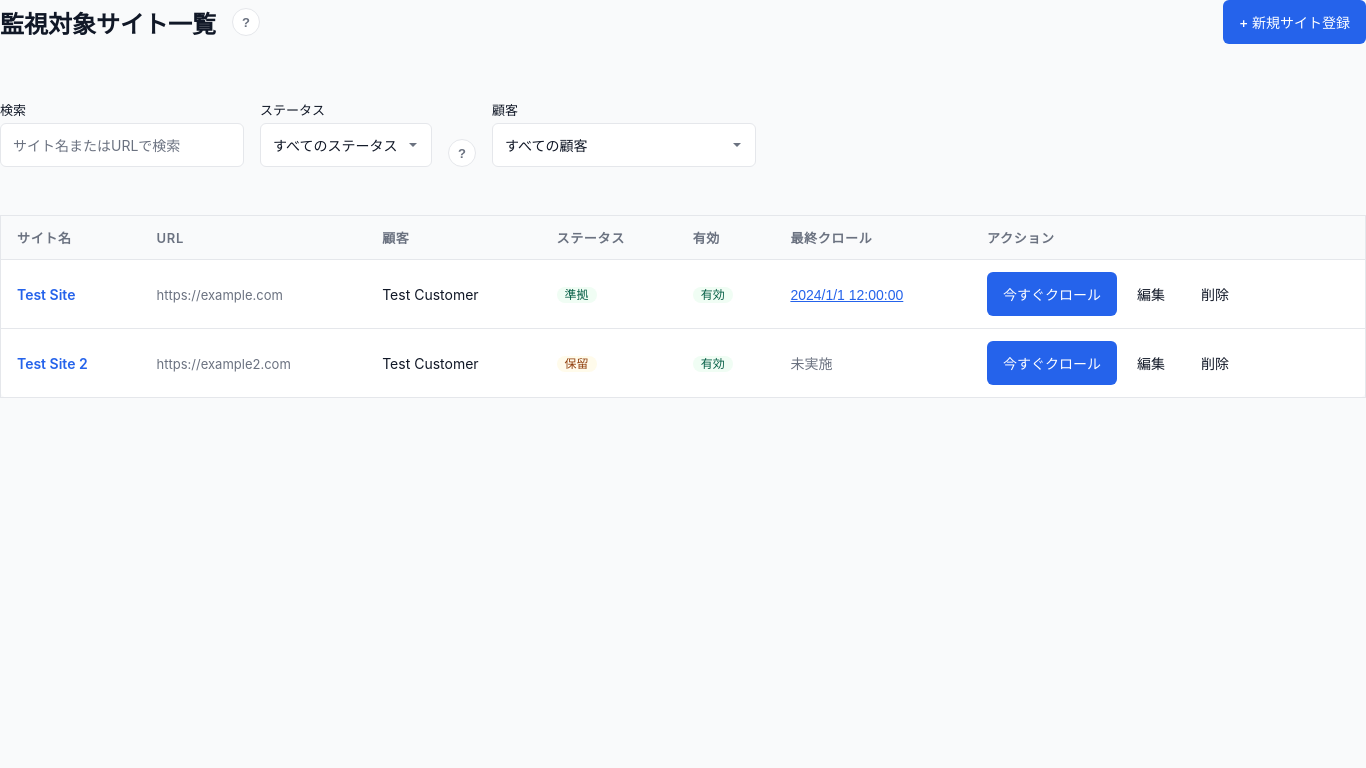
Sites - Crawl Result Link › should show loading state while fetching crawl result
This screenshot has width=1366, height=768.
Click the button "2024/1/1 12:00:00".
click(847, 294)  # box [790,286,903,302]
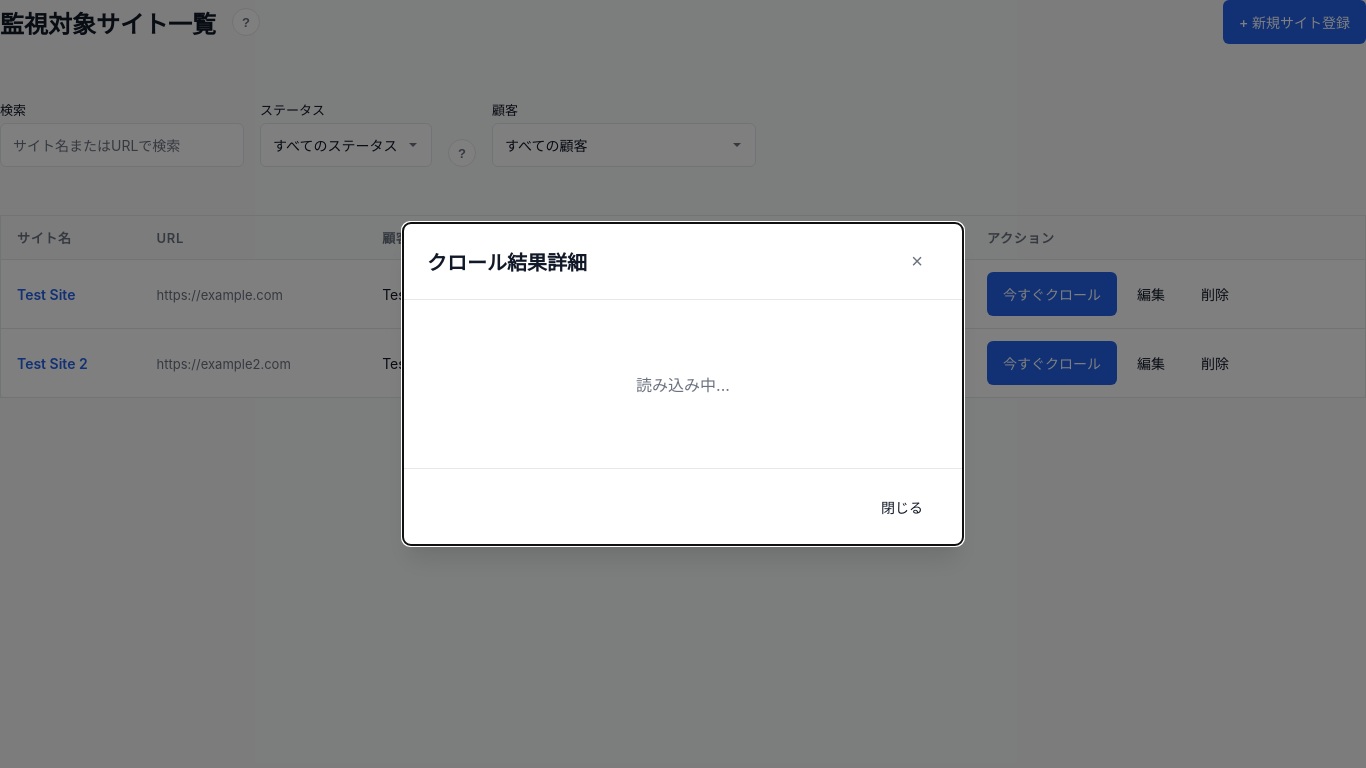
Expected: the text "読み込み中..." is shown, [636,375,730,395]
